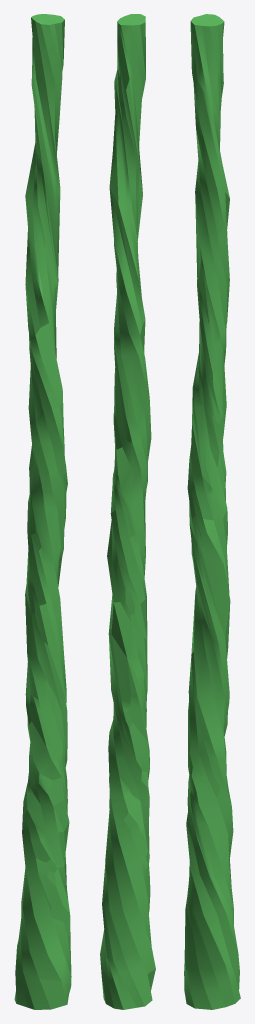
Rendered from jungle_tree_tall_B_twist.fbx.
3 renders of one model, left to right at view 1: azimuth 90°, elevation 25°; view 2: azimuth 150°, elevation 25°; view 3: azimuth 270°, elevation 25°, orthographic.
Parts seen in each view (by area): view 1: jungle_tree_tall_B_twist; view 2: jungle_tree_tall_B_twist; view 3: jungle_tree_tall_B_twist.
Part boxes in pixels (box(x1,y1,x2,y2)): jungle_tree_tall_B_twist: box(14, 14, 71, 1009); jungle_tree_tall_B_twist: box(100, 14, 155, 1009); jungle_tree_tall_B_twist: box(184, 14, 240, 1009).
Size of the model in its own units: 75.35 by 1563 by 82.28.
